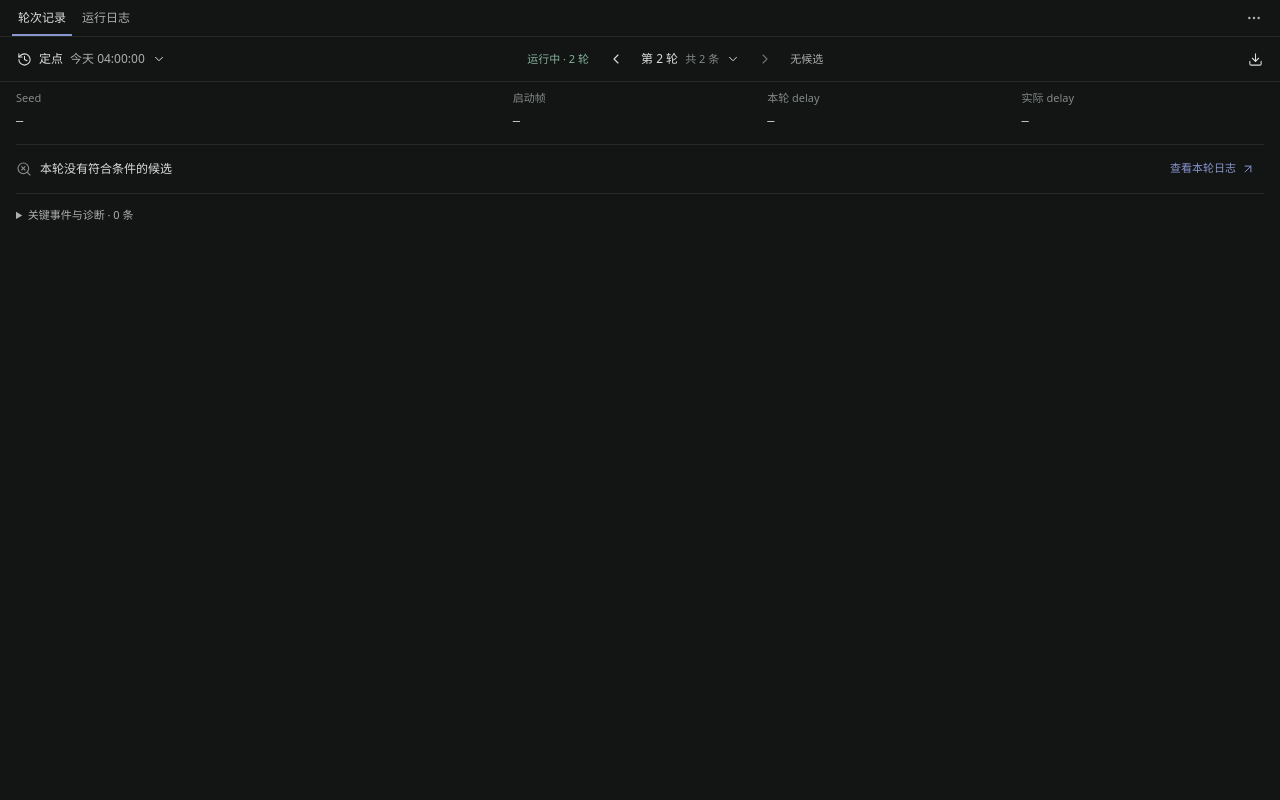
Scenario: the filter popover stays open while tabbing between its fields
The width and height of the screenshot is (1280, 800).
Click the button "运行日志".
click(106, 18)  # box [76,0,136,36]
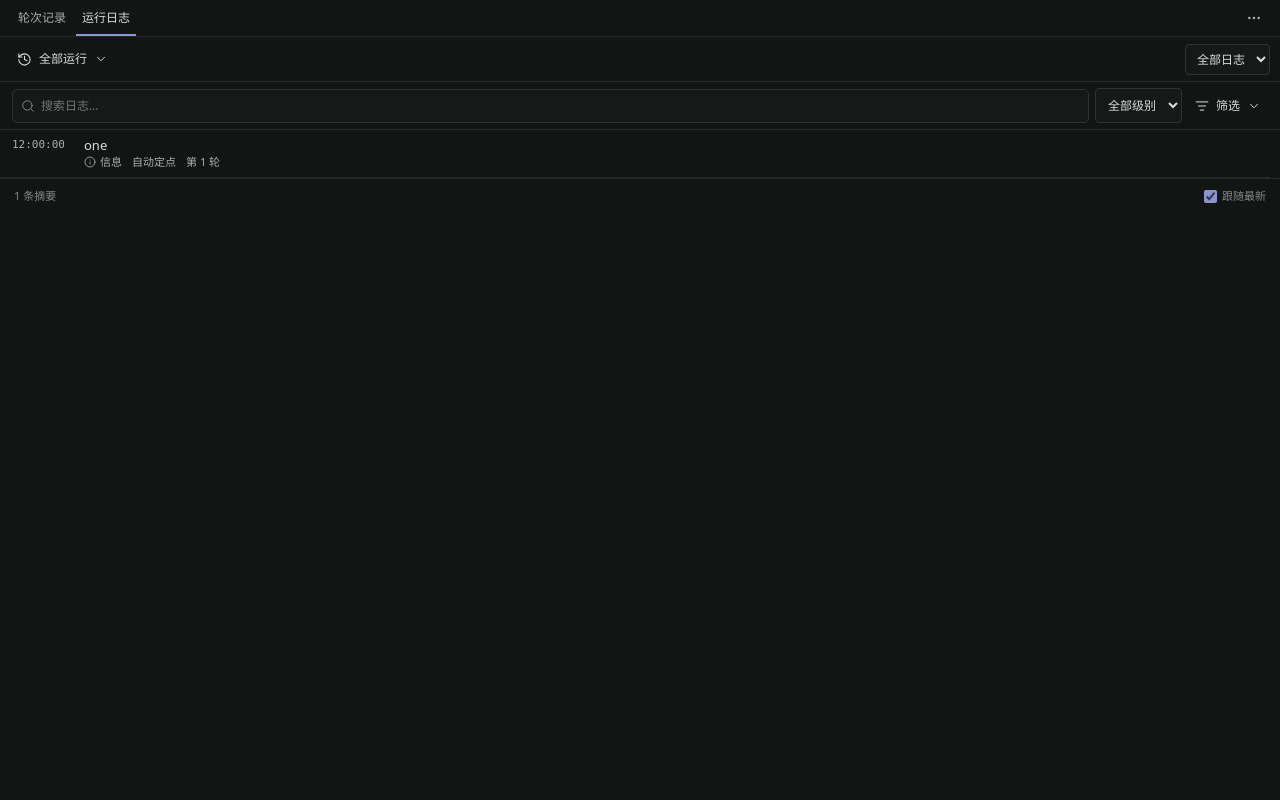
Click the button with aria-label "筛选日志".
click(1228, 106)  # box [1188,90,1268,122]
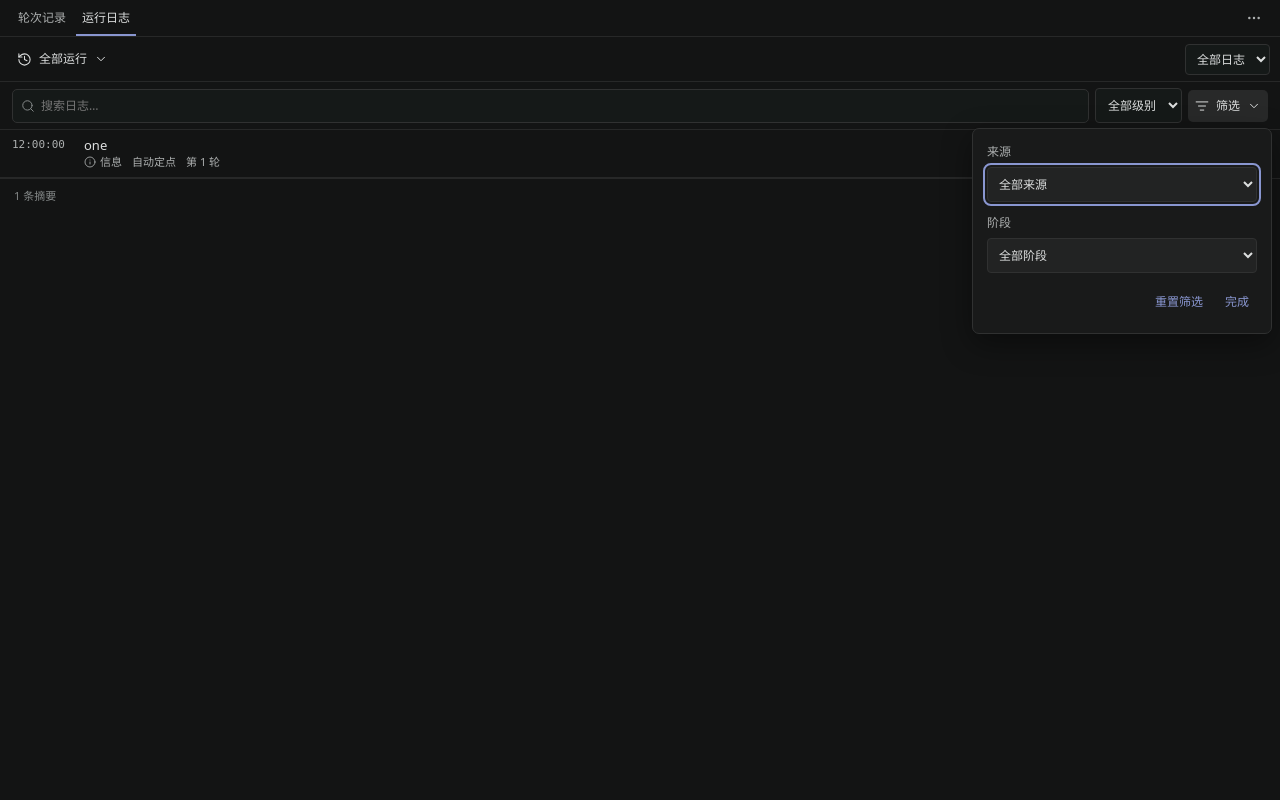
Press Tab in the dropdown named "筛选日志来源", box [987,166,1257,202]
Press Tab in the button "完成", box [1217,284,1257,318]
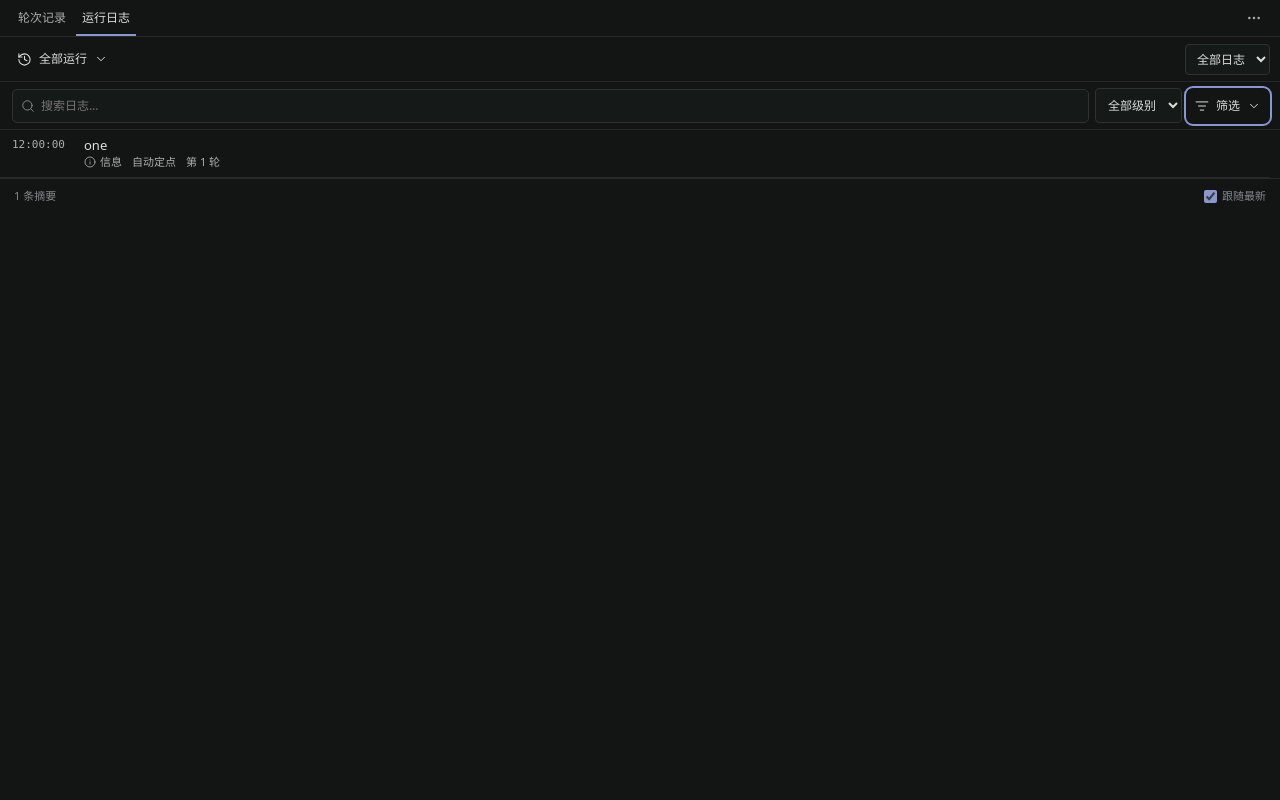
Check: the dialog is gone
